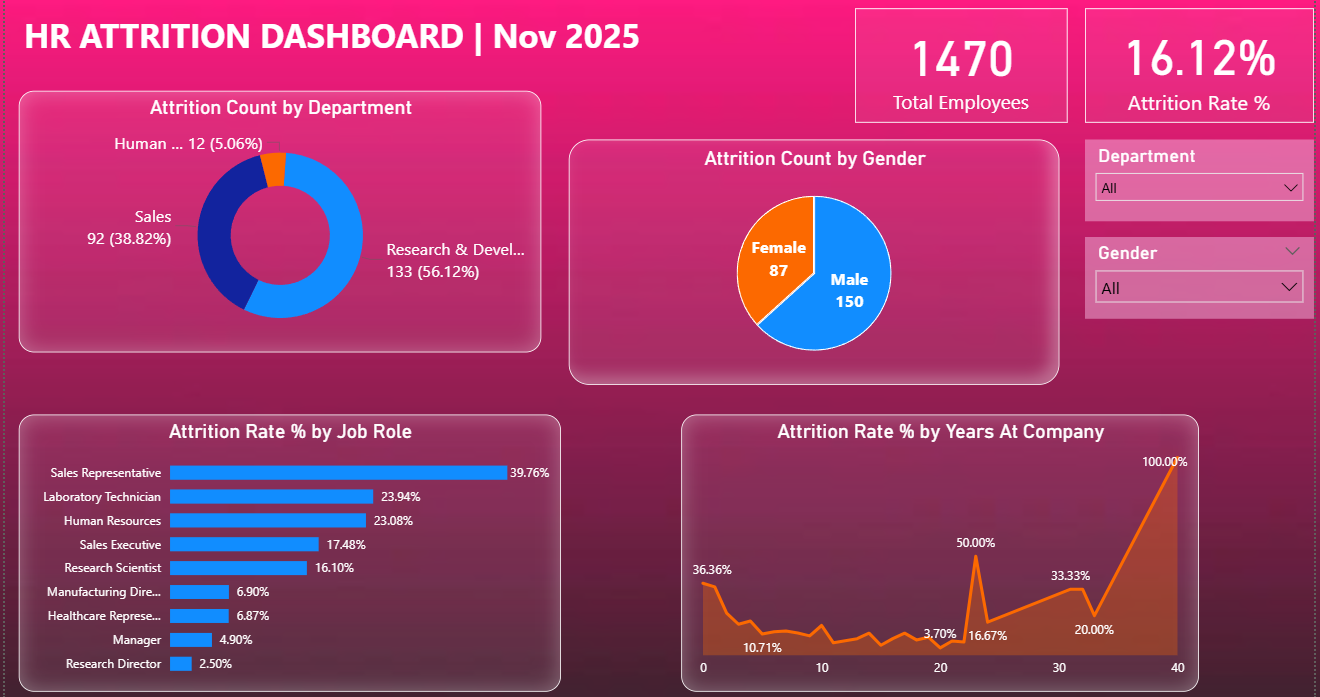

This screenshot's page, from the dashboard's own definition file:
{"tool":"powerbi","page":{"name":"Overview","canvas":[1280,720],"ordinal":0},"visuals":[{"type":"card","fields":{"Values":["Measure.Total Employees"]},"box":[832,16,208,112],"z":0},{"type":"card","fields":{"Values":["Measure.Attrition Rate %"]},"box":[1056,16,224,112],"z":1000},{"type":"donutChart","fields":{"Y":["Measure.Attrition Count"],"Category":["HR_Data.Department"]},"box":[13.8,96.2,511.2,256.2],"z":2000},{"type":"clusteredBarChart","title":"Attrition Rate % by Job Role","fields":{"Category":["HR_Data.JobRole"],"Y":["Measure.Attrition Rate %"]},"box":[13.8,413.8,530,271.2],"z":3000},{"type":"slicer","fields":{"Values":["HR_Data.Department"]},"box":[1056.2,143.8,223.8,80],"z":4000},{"type":"slicer","fields":{"Values":["HR_Data.Gender"]},"box":[1056.2,240,223.8,80],"z":5000},{"type":"textbox","box":[0,16,640,64],"z":6000},{"type":"areaChart","title":"Attrition Rate % by Years At Company","fields":{"Category":["HR_Data.YearsAtCompany"],"Y":["Measure.Attrition Rate %"]},"box":[661.2,413.8,506.2,271.2],"z":7000},{"type":"pieChart","fields":{"Y":["Measure.Attrition Count"],"Category":["HR_Data.Gender"]},"box":[551.2,143.8,480,240],"z":8000}]}

Visuals, with their boxes on the page's 1280x720 design canvas (x1, y1, x2, y2). These are canvas units, not pixel positions in the 1320x697 screenshot, which may show the page scaled, cropped or inside an application window:
card - Measure.Total Employees: <region>832, 16, 1040, 128</region>
card - Measure.Attrition Rate %: <region>1056, 16, 1280, 128</region>
donutChart - Measure.Attrition Count x HR_Data.Department: <region>14, 96, 525, 352</region>
"Attrition Rate % by Job Role" clusteredBarChart: <region>14, 414, 544, 685</region>
slicer - HR_Data.Department: <region>1056, 144, 1280, 224</region>
slicer - HR_Data.Gender: <region>1056, 240, 1280, 320</region>
textbox: <region>0, 16, 640, 80</region>
"Attrition Rate % by Years At Company" areaChart: <region>661, 414, 1167, 685</region>
pieChart - Measure.Attrition Count x HR_Data.Gender: <region>551, 144, 1031, 384</region>
